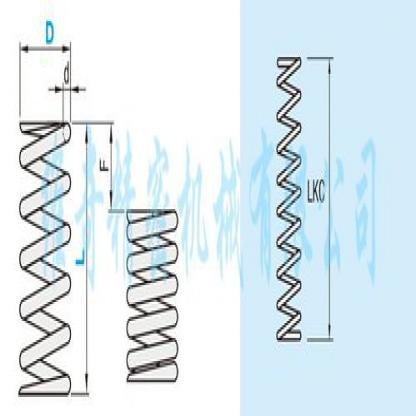FOD: (18, 114, 74, 399), (122, 203, 181, 386), (273, 52, 302, 345)
